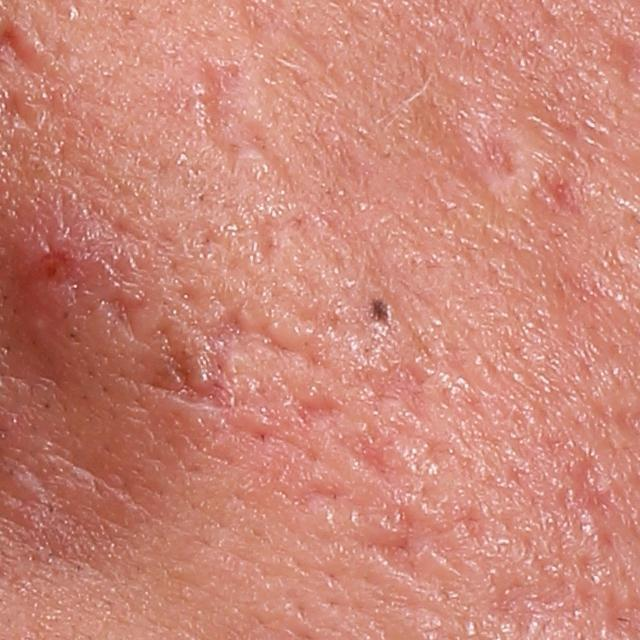atrophic_scar: (184, 64, 306, 204), (150, 317, 233, 419), (198, 305, 308, 364), (553, 451, 617, 545), (370, 520, 452, 584), (266, 388, 340, 444), (365, 356, 428, 421), (344, 440, 418, 492), (96, 277, 139, 343), (532, 172, 586, 219), (3, 84, 48, 138), (471, 128, 517, 173)
